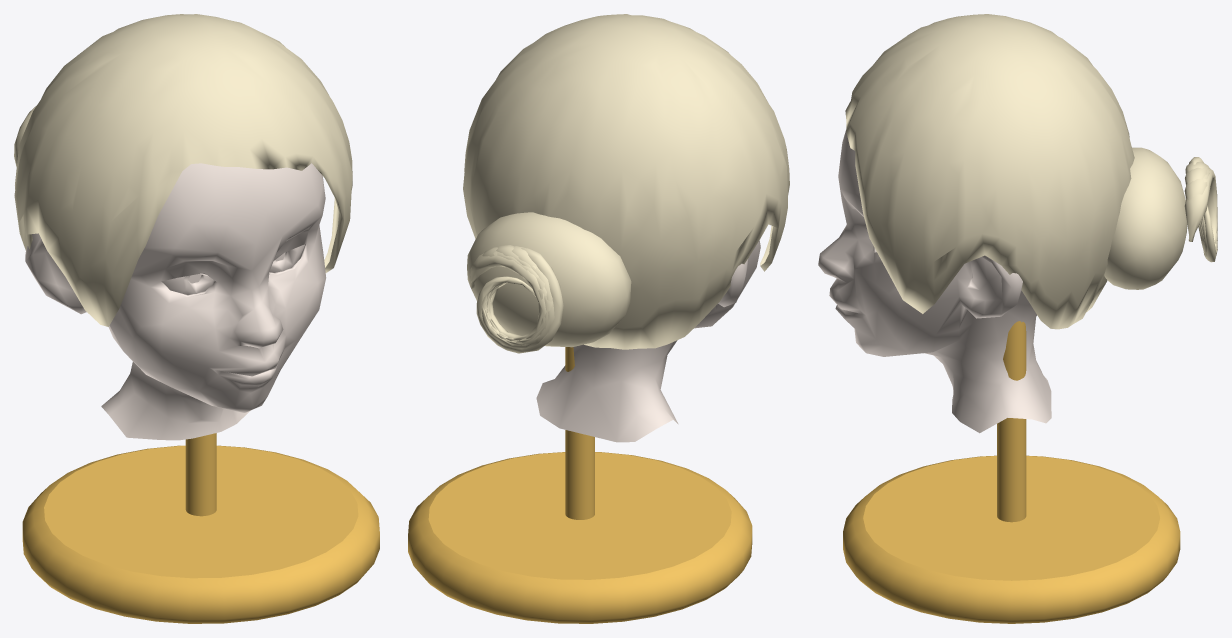
Rendered from rain.hair.platinum-long.glb.
3 renders of one model, left to right at view 1: azimuth 30°, elevation 25°; view 2: azimuth 150°, elevation 25°; view 3: azimuth 270°, elevation 25°, orthographic. The views are drawn at different scales.
Visible parts, largest first — view 1: Hairstyles.platinum-long.Crown, stand_base, GEO-rain-head, stand_stem, GEO-rain-eyes; view 2: Hairstyles.platinum-long.Crown, stand_base, Hairstyles.platinum-long.Bun core, GEO-rain-head, stand_stem, Hairstyles.platinum-long.Bun twist 4, Hairstyles.platinum-long.Bun twist 0, Hairstyles.platinum-long.Bun twist 3, Hairstyles.platinum-long.Bun twist 2, Hairstyles.platinum-long.Bun twist 1; view 3: Hairstyles.platinum-long.Crown, stand_base, GEO-rain-head, Hairstyles.platinum-long.Bun core, stand_stem, Hairstyles.platinum-long.Bun twist 0.
Boxes of the visible parts, x1,y1,x2,y2 form: Hairstyles.platinum-long.Crown: [14, 14, 352, 326]; stand_base: [22, 445, 379, 623]; GEO-rain-head: [25, 163, 326, 440]; stand_stem: [185, 433, 216, 516]; GEO-rain-eyes: [162, 244, 304, 294]; Hairstyles.platinum-long.Crown: [463, 14, 789, 349]; stand_base: [408, 452, 752, 623]; Hairstyles.platinum-long.Bun core: [467, 212, 631, 347]; GEO-rain-head: [536, 240, 760, 442]; stand_stem: [565, 347, 594, 519]; Hairstyles.platinum-long.Bun twist 4: [476, 248, 563, 353]; Hairstyles.platinum-long.Bun twist 0: [470, 251, 546, 340]; Hairstyles.platinum-long.Bun twist 3: [481, 246, 554, 348]; Hairstyles.platinum-long.Bun twist 2: [485, 245, 553, 345]; Hairstyles.platinum-long.Bun twist 1: [482, 247, 550, 342]; Hairstyles.platinum-long.Crown: [845, 14, 1134, 329]; stand_base: [843, 455, 1180, 623]; GEO-rain-head: [818, 130, 1051, 433]; Hairstyles.platinum-long.Bun core: [1104, 147, 1187, 289]; stand_stem: [997, 321, 1026, 522]; Hairstyles.platinum-long.Bun twist 0: [1184, 170, 1217, 252].
Size of the model in its own units: 0.44 by 0.685 by 0.4802.
